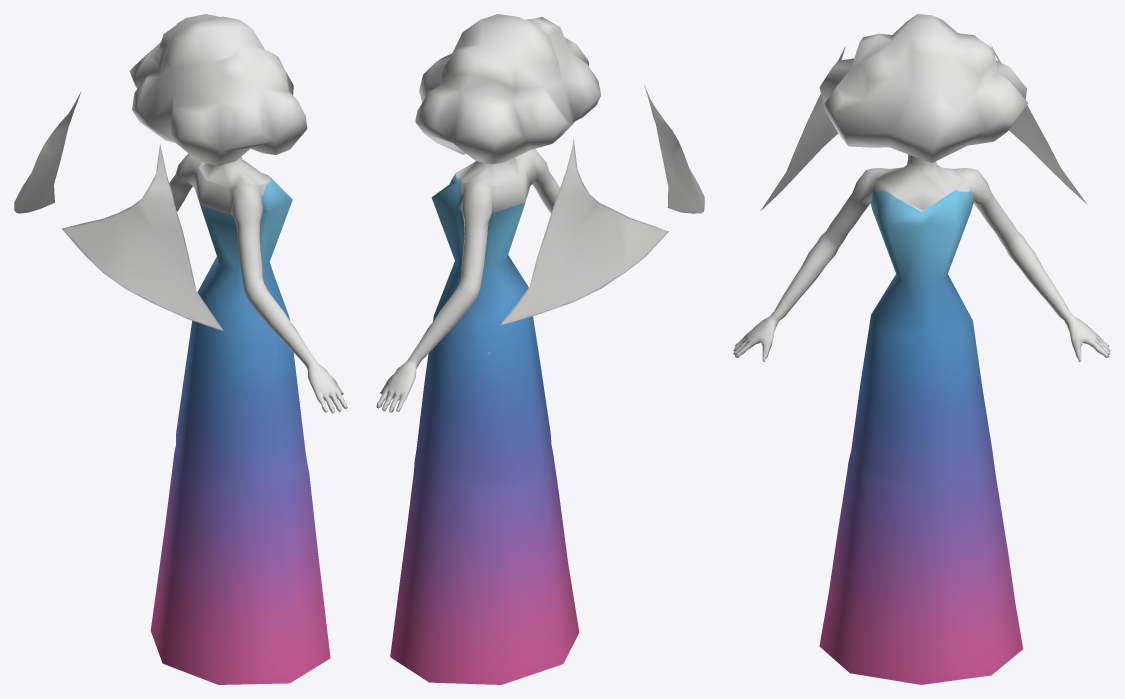
The picture shows the model from 3 angles, left to right: view 1: azimuth 30°, elevation 25°; view 2: azimuth 150°, elevation 25°; view 3: azimuth 270°, elevation 25°; orthographic projection. The views are drawn at different scales.
Parts seen in each view (by area): view 1: tripo_node_1473c49d-b322-4529-a3a6-1fadb0f24def; view 2: tripo_node_1473c49d-b322-4529-a3a6-1fadb0f24def; view 3: tripo_node_1473c49d-b322-4529-a3a6-1fadb0f24def.
Boxes of the visible parts, x1=… form: tripo_node_1473c49d-b322-4529-a3a6-1fadb0f24def: x1=14, y1=14, x2=347, y2=684; tripo_node_1473c49d-b322-4529-a3a6-1fadb0f24def: x1=376, y1=14, x2=704, y2=684; tripo_node_1473c49d-b322-4529-a3a6-1fadb0f24def: x1=733, y1=14, x2=1110, y2=684.
Size of the model in its own units: 0.4707 by 0.998 by 0.5566.
1 material, 1 textured.
